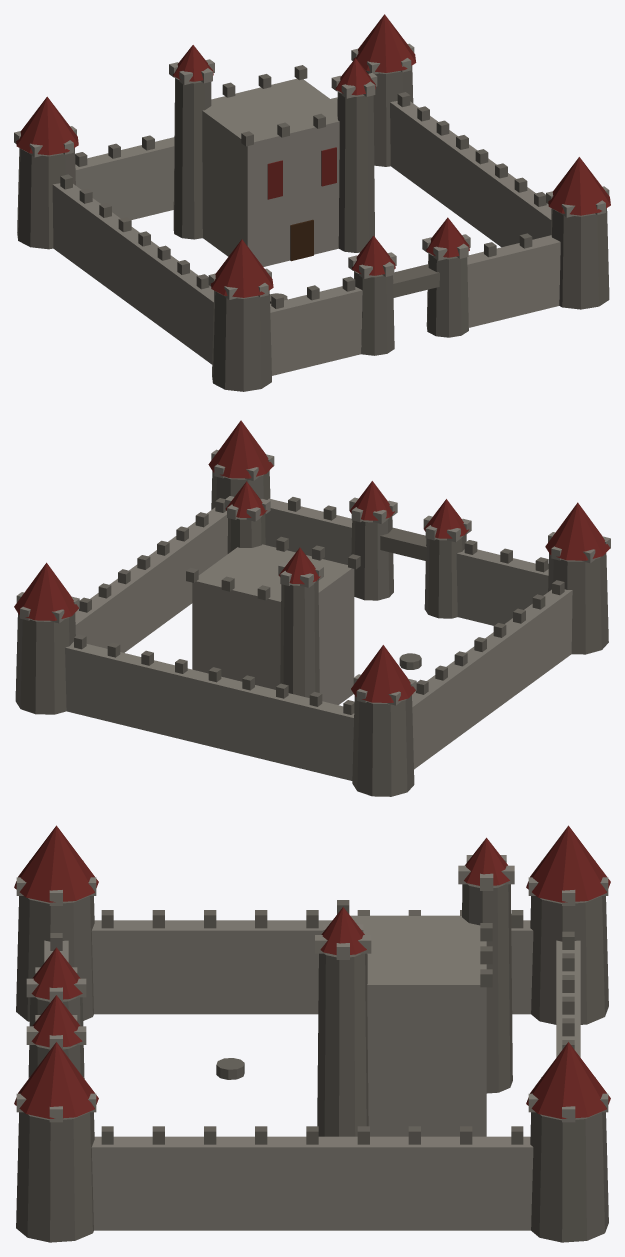
File: landmark_castle.glb
3 renders of one model, top to bottom at view 1: azimuth 30°, elevation 25°; view 2: azimuth 150°, elevation 25°; view 3: azimuth 270°, elevation 25°, orthographic. The views are drawn at different scales.
Parts seen in each view (by area): view 1: landmark_castle; view 2: landmark_castle; view 3: landmark_castle.
Part boxes in pixels (x1=…): landmark_castle: x1=14, y1=14, x2=610, y2=391; landmark_castle: x1=14, y1=420, x2=610, y2=796; landmark_castle: x1=14, y1=825, x2=610, y2=1242.
Bounding box in the file's own units: 58.3 × 26.42 × 58.3.
